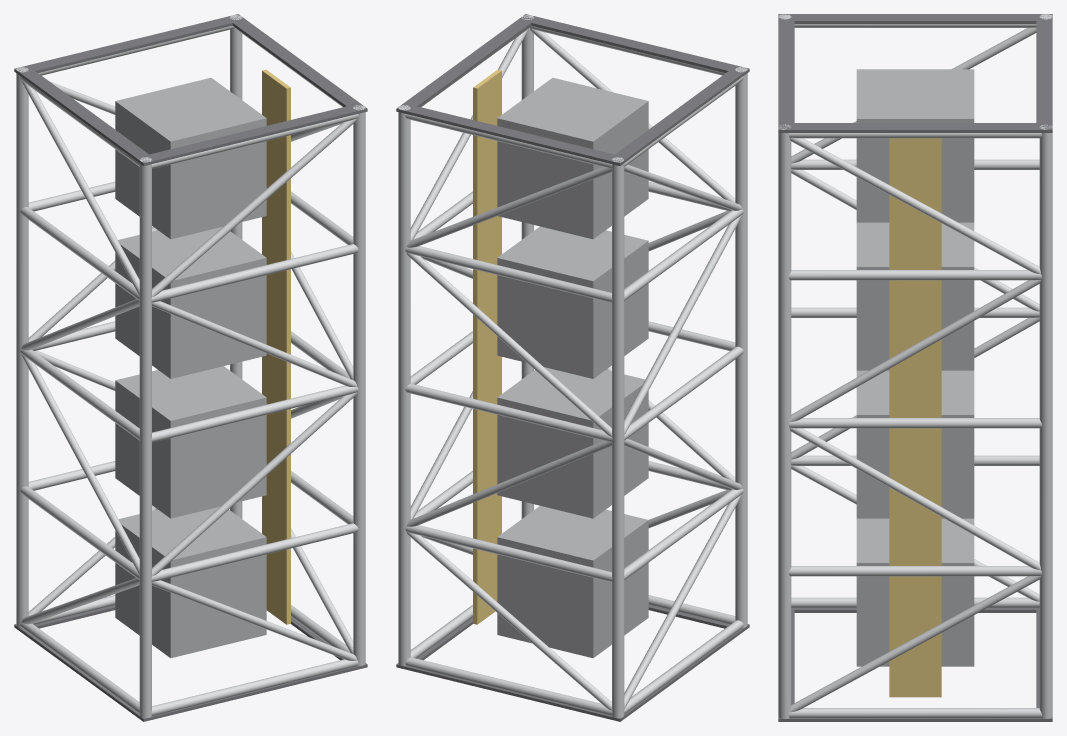
The model's file is station07_truss_xl.glb.
3 renders of one model, left to right at view 1: azimuth 30°, elevation 25°; view 2: azimuth 150°, elevation 25°; view 3: azimuth 270°, elevation 25°, orthographic. The views are drawn at different scales.
Visible parts, largest first — view 1: truss_members, service_bays, utility_tray, end_frames; view 2: truss_members, service_bays, utility_tray, end_frames; view 3: truss_members, service_bays, utility_tray, end_frames.
Part boxes in pixels (box(x1,y1,x2,y2)): truss_members: box(16, 15, 365, 718); service_bays: box(115, 77, 266, 658); utility_tray: box(262, 69, 290, 624); end_frames: box(14, 14, 367, 721); truss_members: box(398, 15, 747, 718); service_bays: box(497, 77, 648, 658); utility_tray: box(473, 69, 501, 624); end_frames: box(396, 14, 749, 721); truss_members: box(778, 14, 1052, 718); service_bays: box(856, 69, 974, 666); utility_tray: box(889, 138, 941, 697); end_frames: box(778, 14, 1052, 721).
Size of the model in its own units: 4.2 by 10 by 4.2.
